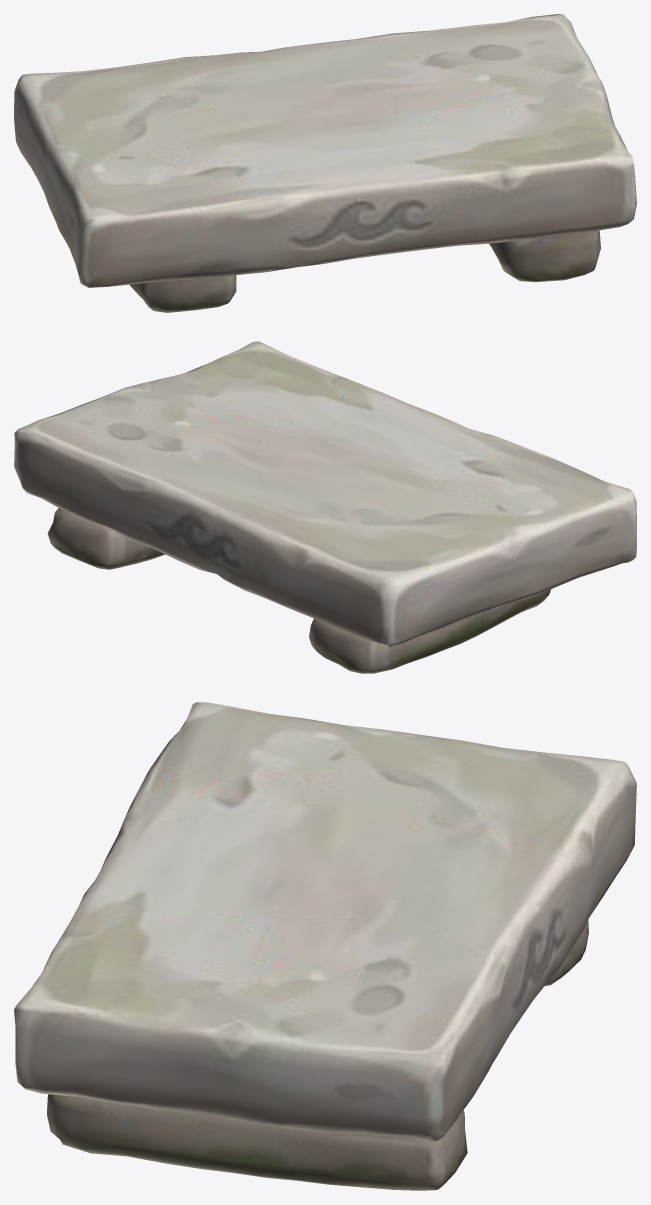
File: el_ponte.glb
3 renders of one model, top to bottom at view 1: azimuth 30°, elevation 25°; view 2: azimuth 150°, elevation 25°; view 3: azimuth 270°, elevation 25°, orthographic. The views are drawn at different scales.
Visible parts, largest first — view 1: Mesh_0.006; view 2: Mesh_0.006; view 3: Mesh_0.006.
Boxes of the visible parts, left/top/right/bottom form: Mesh_0.006: left=14, top=14, right=636, bottom=312; Mesh_0.006: left=14, top=341, right=636, bottom=673; Mesh_0.006: left=14, top=702, right=636, bottom=1190.
Size of the model in its own units: 0.2632 by 0.0567 by 0.1898.
1 material, 1 textured.
